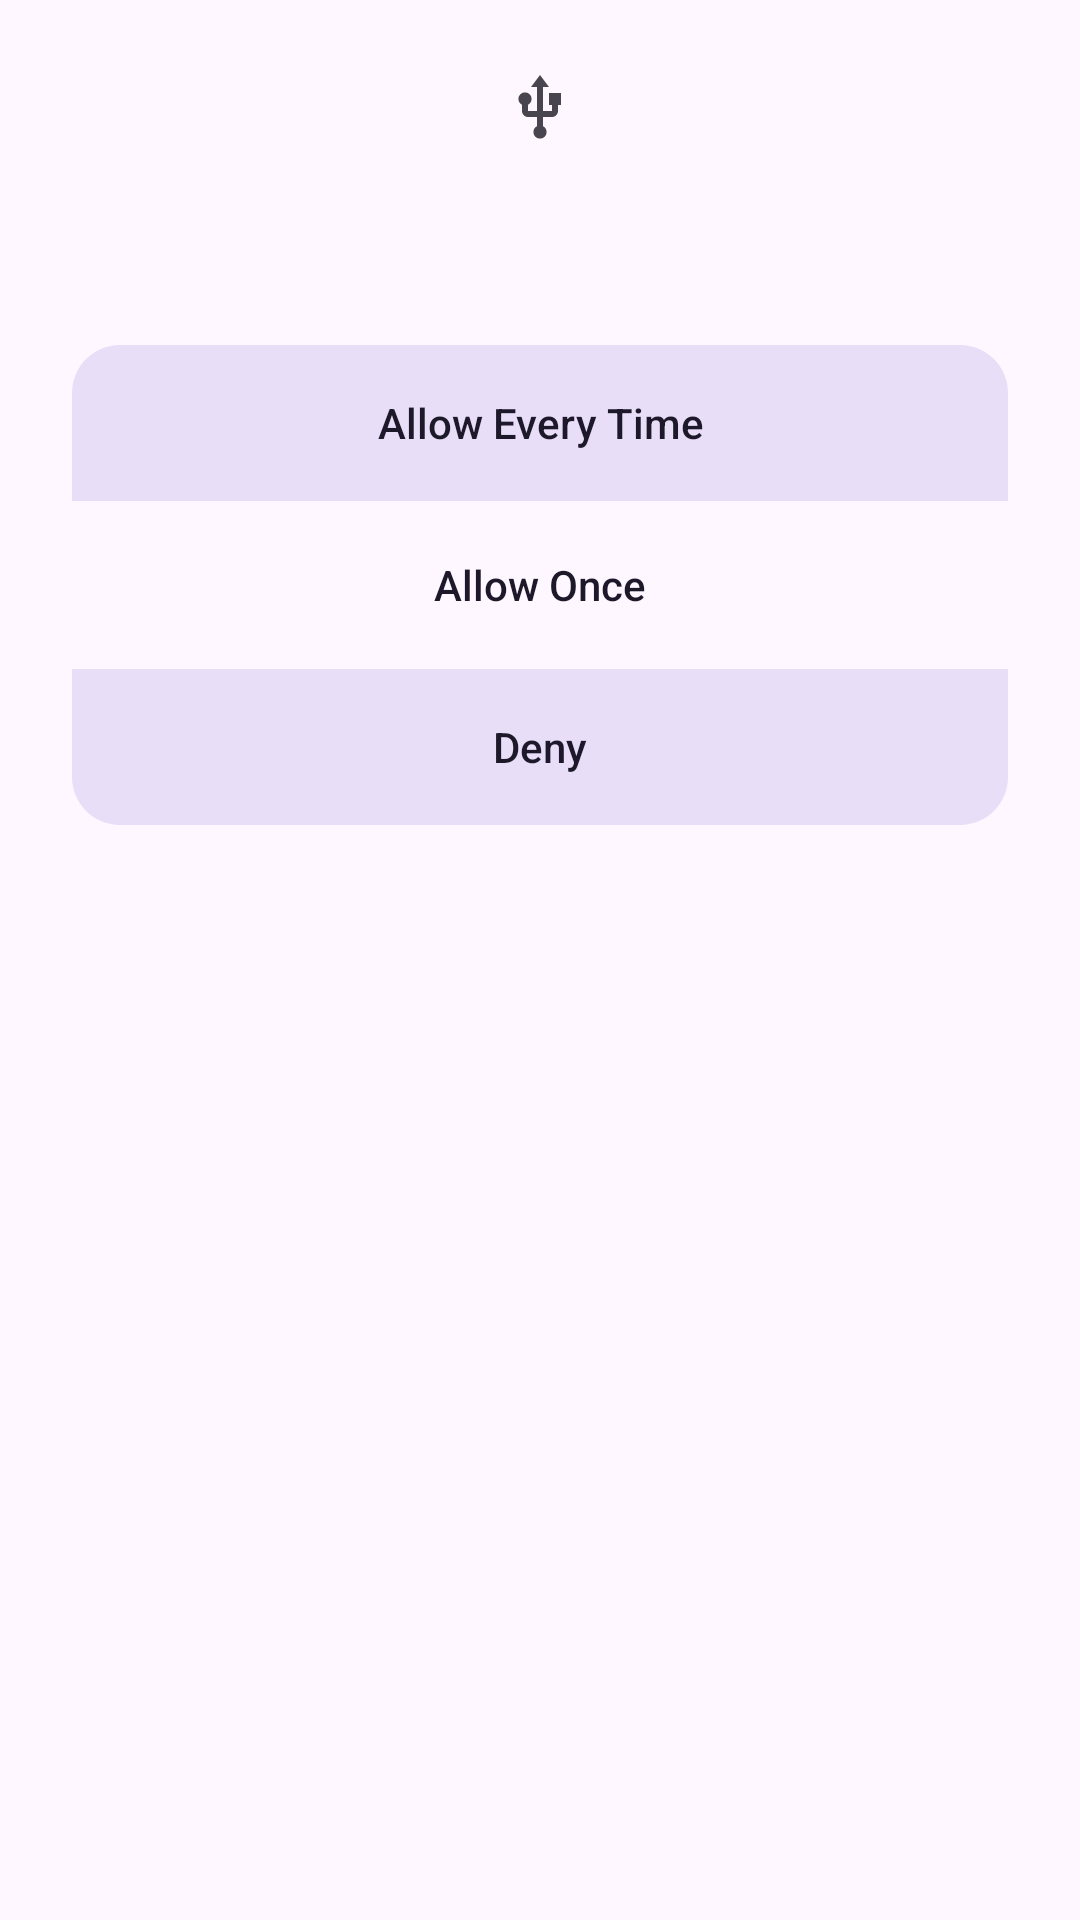

Icon bounding boxes for this 1080 x 1920 phone screenshot, format BBox(x1, y1, x2, y2):
usb: BBox(518, 75, 561, 139)
